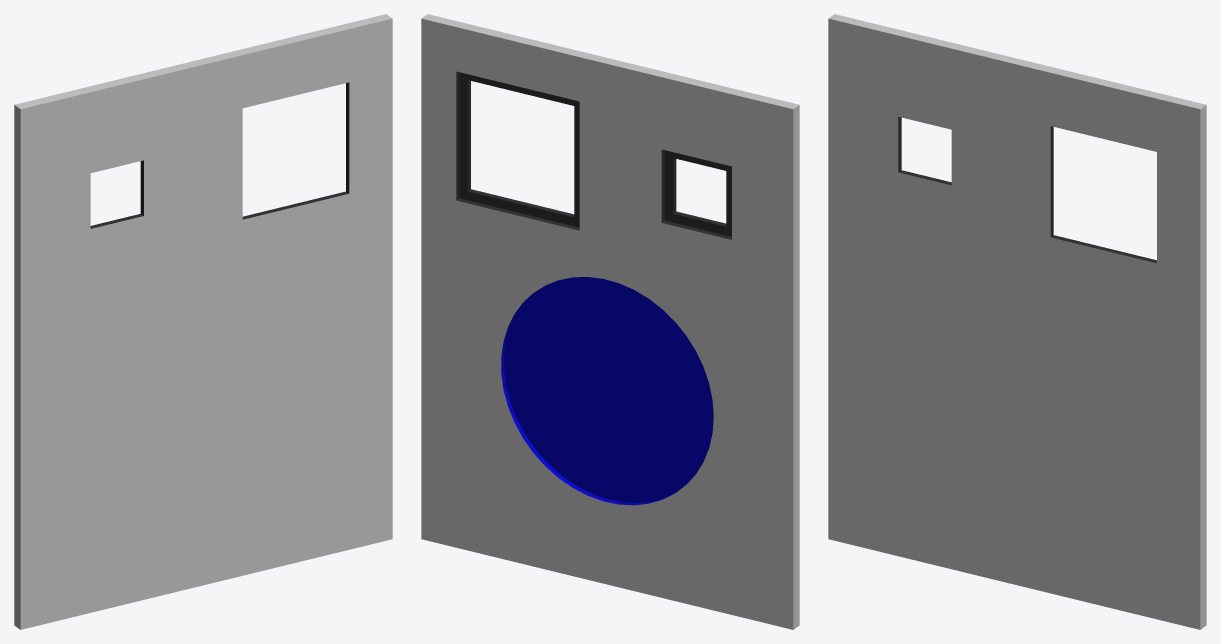
The model's file is blue_circle.dae.
3 renders of one model, left to right at view 1: azimuth 30°, elevation 25°; view 2: azimuth 150°, elevation 25°; view 3: azimuth 330°, elevation 25°, orthographic.
Visible parts, largest first — view 1: ShapeIndexedFaceSet; view 2: ShapeIndexedFaceSet; view 3: ShapeIndexedFaceSet.
Part boxes in pixels (x1,y1,x2,y2): ShapeIndexedFaceSet: (14, 14, 392, 629); ShapeIndexedFaceSet: (421, 14, 799, 629); ShapeIndexedFaceSet: (828, 14, 1206, 629).
Bounding box in the file's own units: 1.75 × 0.0508 × 2.34.
